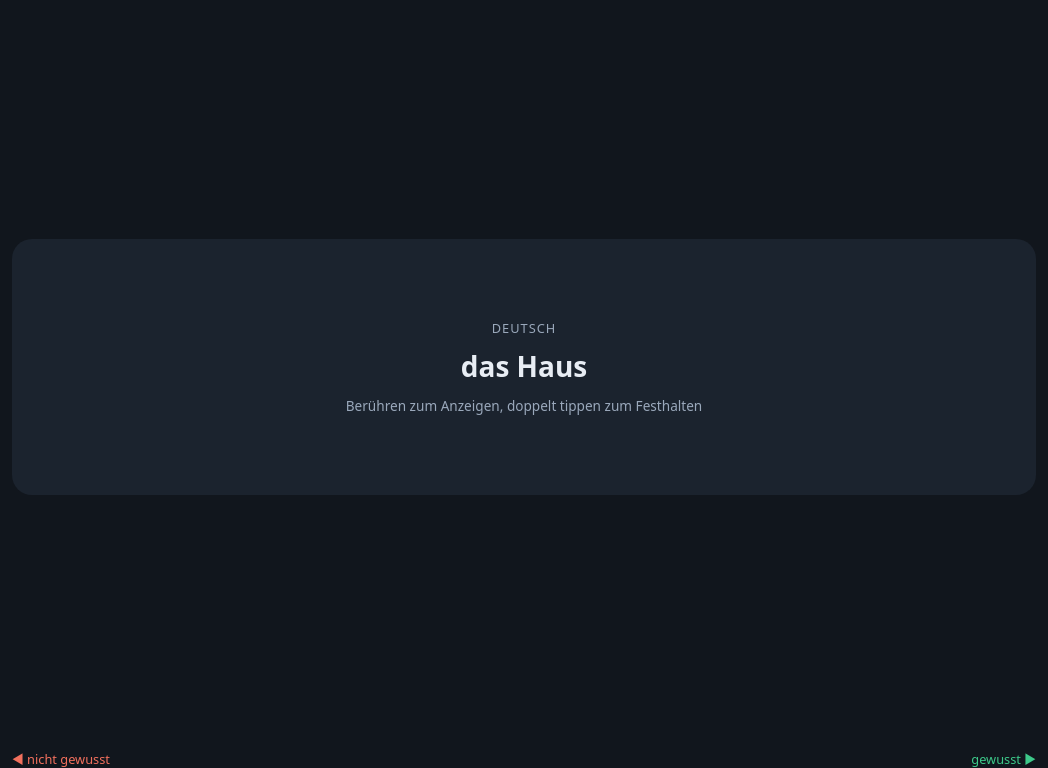
Test: Card › hält die Übersetzung nach einem Doppeltipp dauerhaft sichtbar
Press the mouse on the element that starts with "Deutsch" at (524, 367), box [12,239,1036,495]
Press the mouse on the element that starts with "Deutsch" at (524, 367), box [12,239,1036,495]
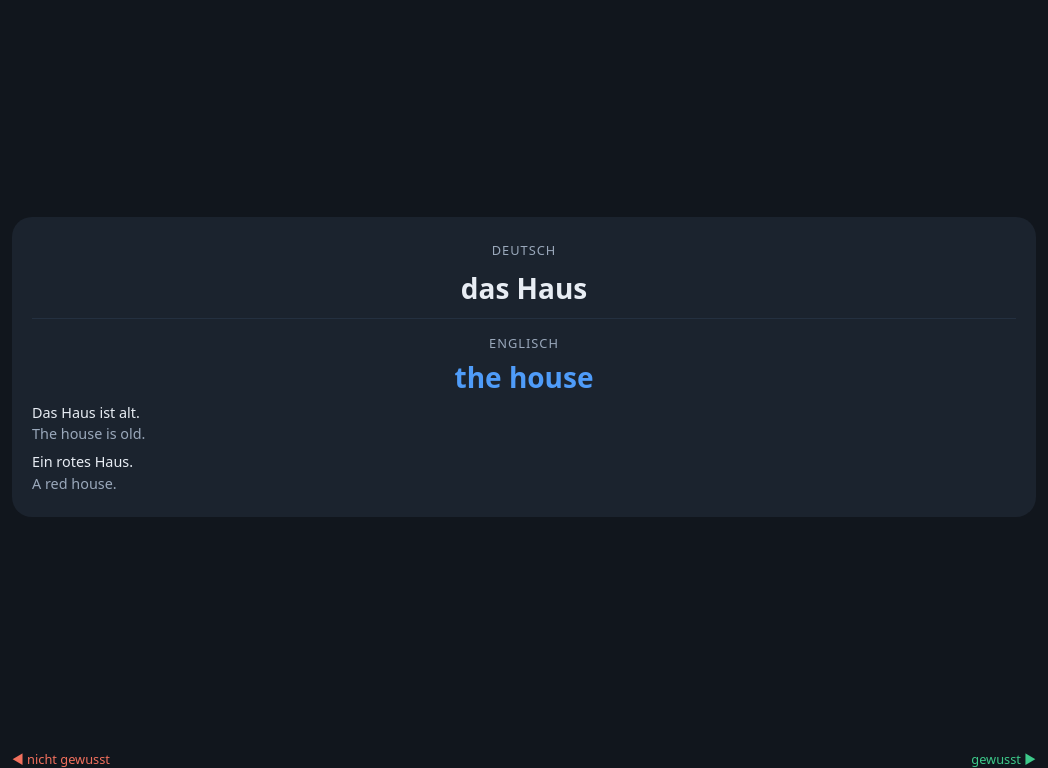
Check: the text "the house" is shown, box [454,358,594,396]
